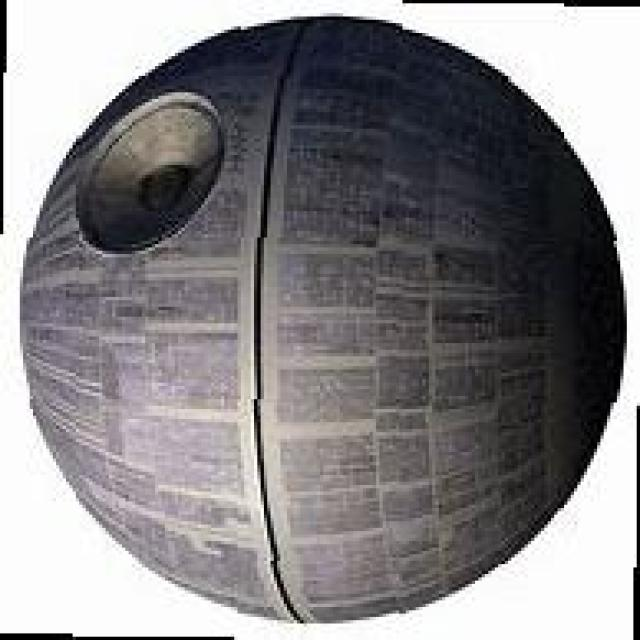Death Star: (13, 10, 627, 627)
